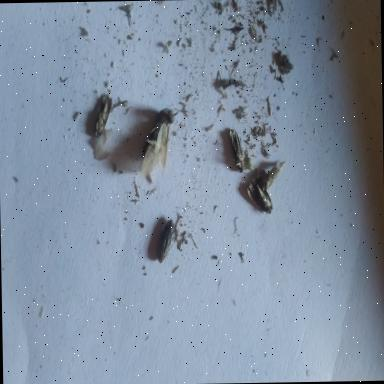pbw: (247, 176, 274, 218), (94, 93, 114, 140), (156, 219, 176, 266), (260, 159, 288, 191), (228, 128, 246, 174)
